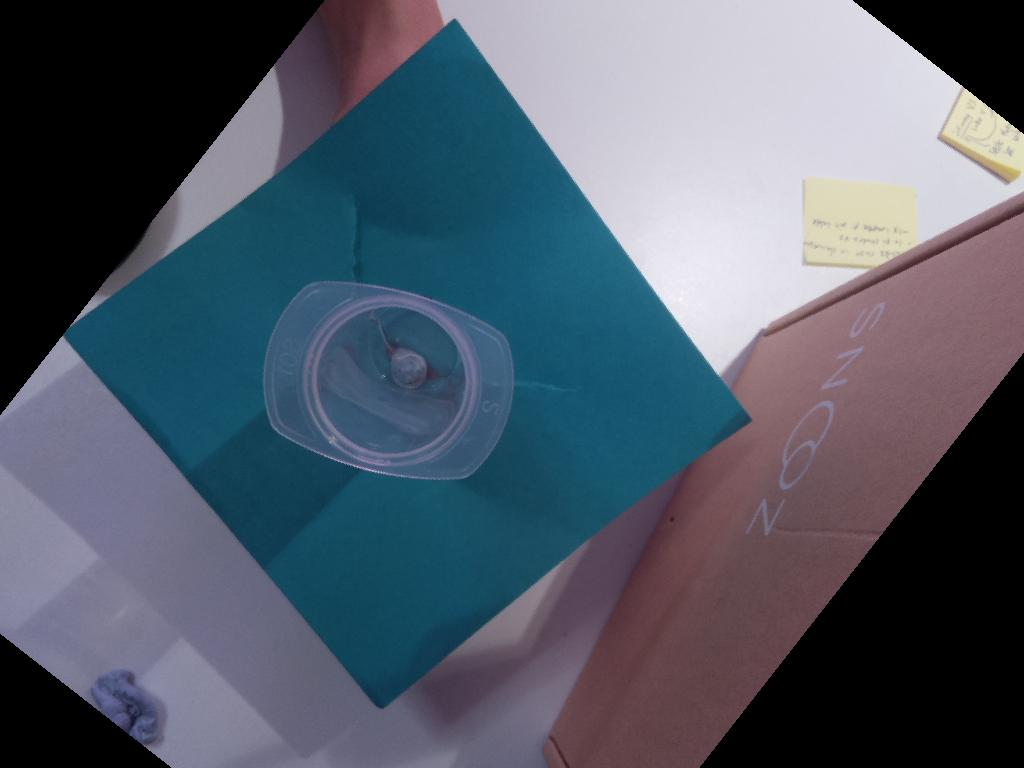clean: (261, 276, 516, 480)
